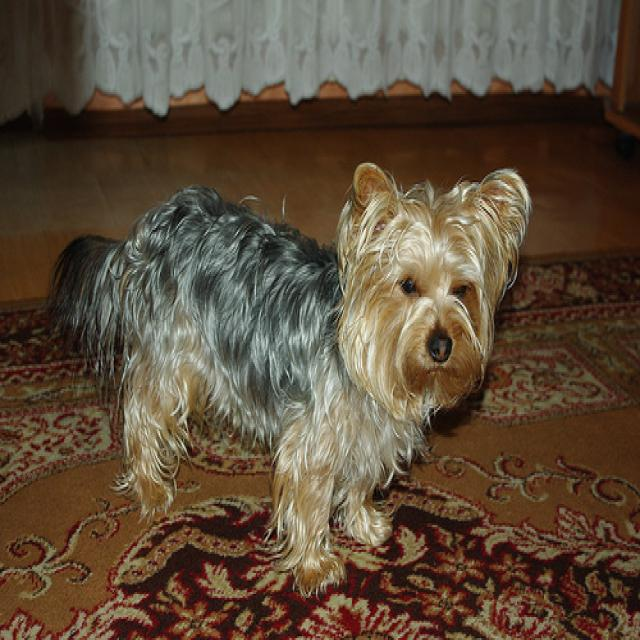dog-yorkshire_terrier: (56, 155, 522, 600)
